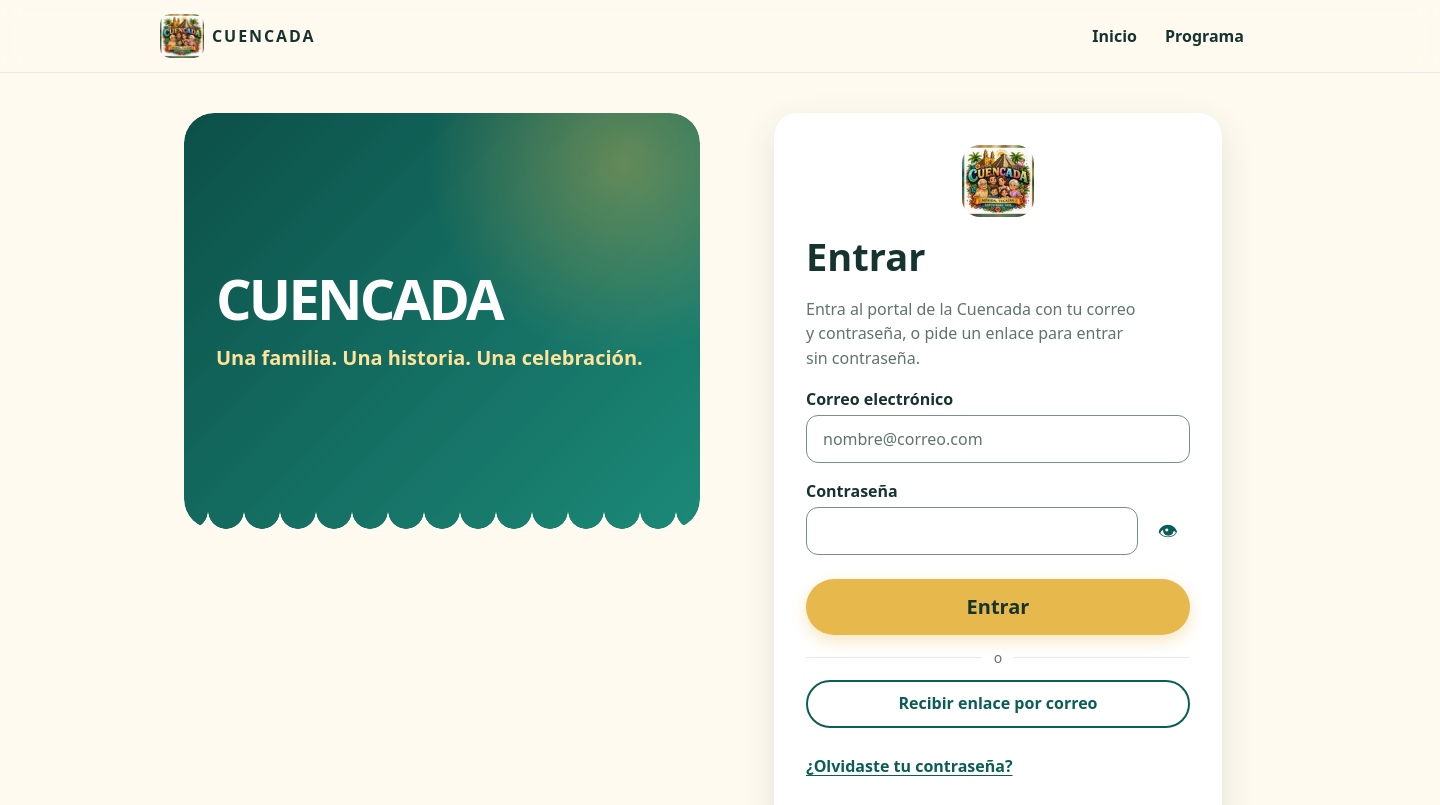
it: login code step › shows a generic message for a wrong code and starts over when the challenge is gone
Type "prima@example.com" into the field labelled "Correo electrónico" at coordinates (998, 439), box [806,415,1190,463]
Type "una frase muy larga" into the password field labelled "Contraseña" at coordinates (972, 531), box [806,507,1138,555]
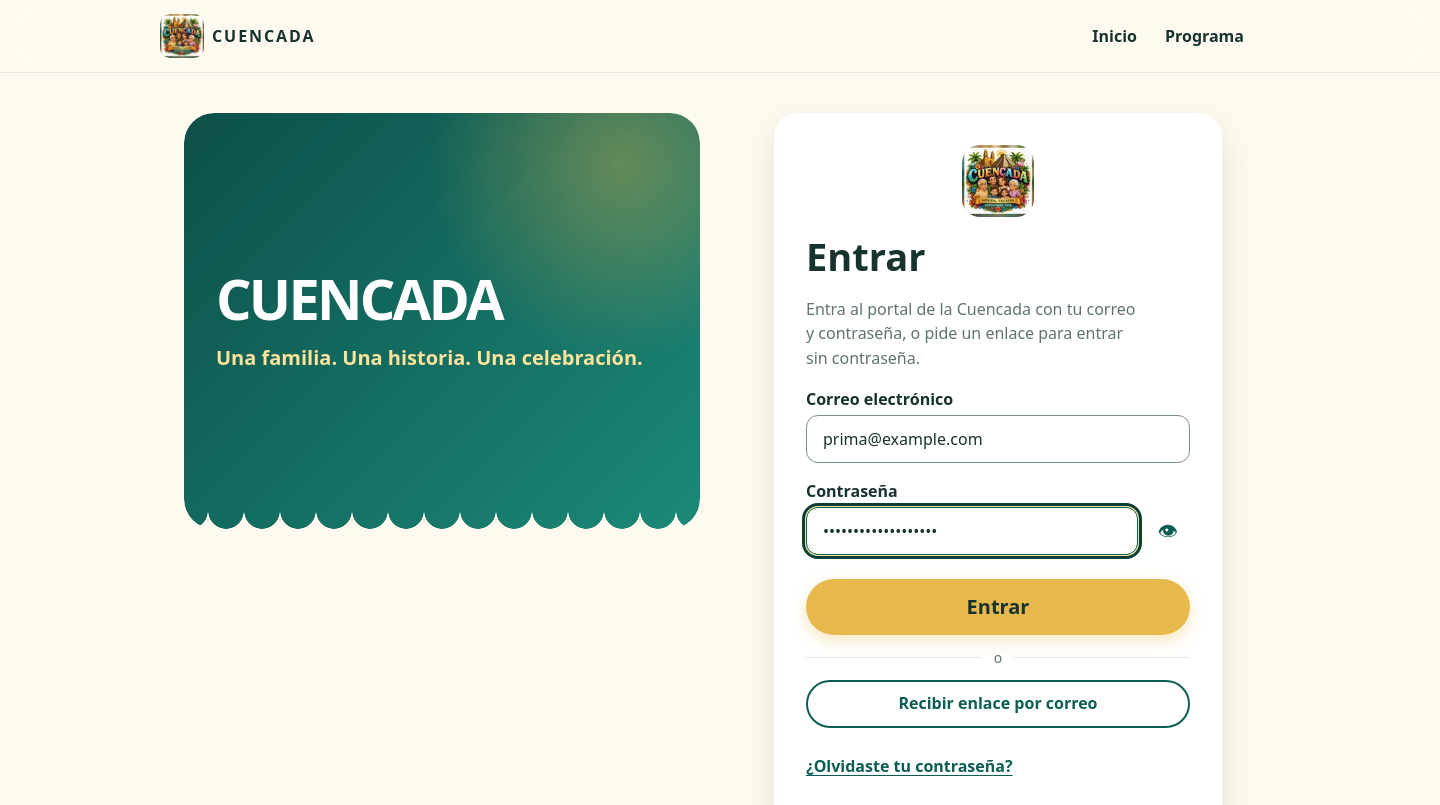
Click the button "Entrar" at coordinates (998, 607), box [806,579,1190,635]
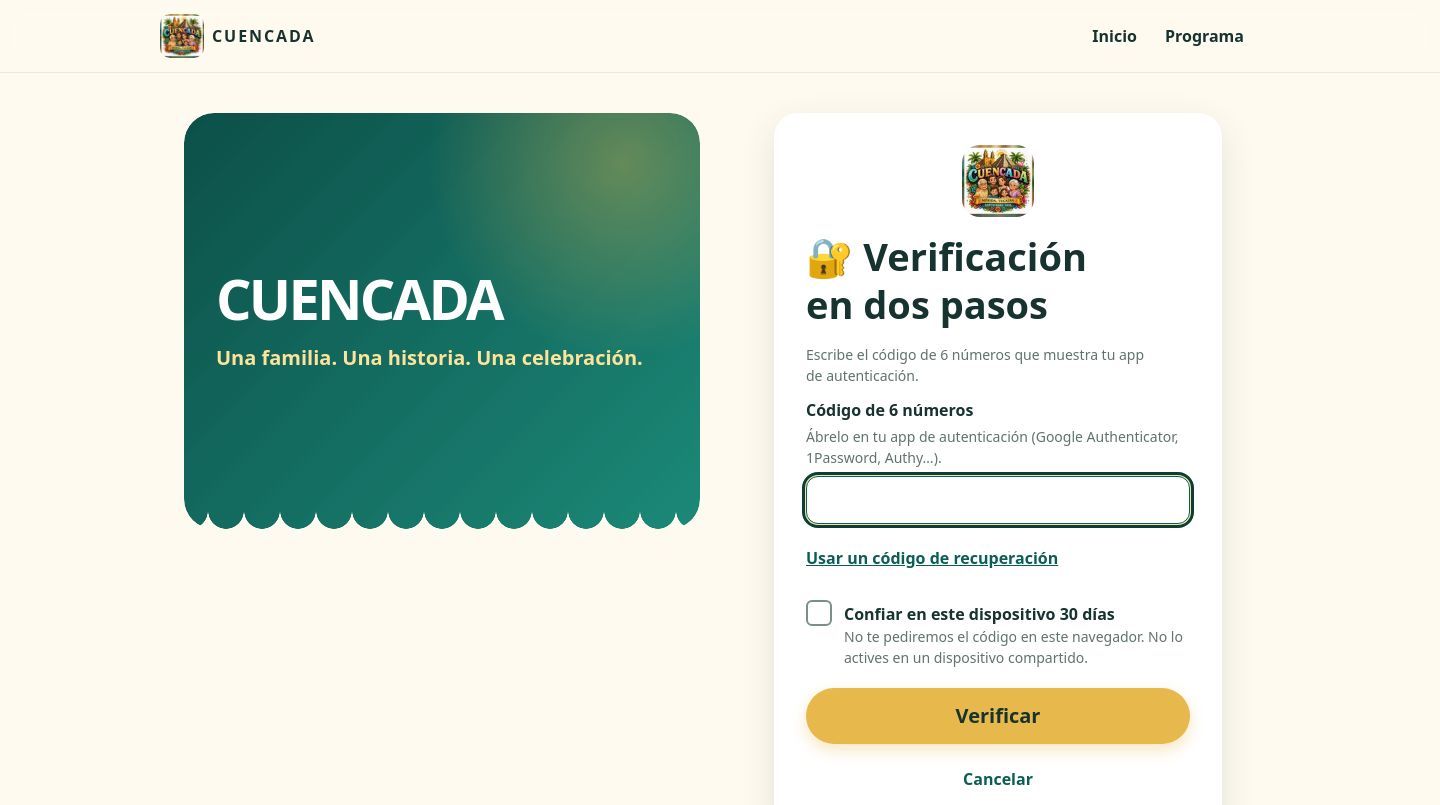
Type "000000" into the field labelled "Código de 6 números" at coordinates (998, 500), box [806,476,1190,524]
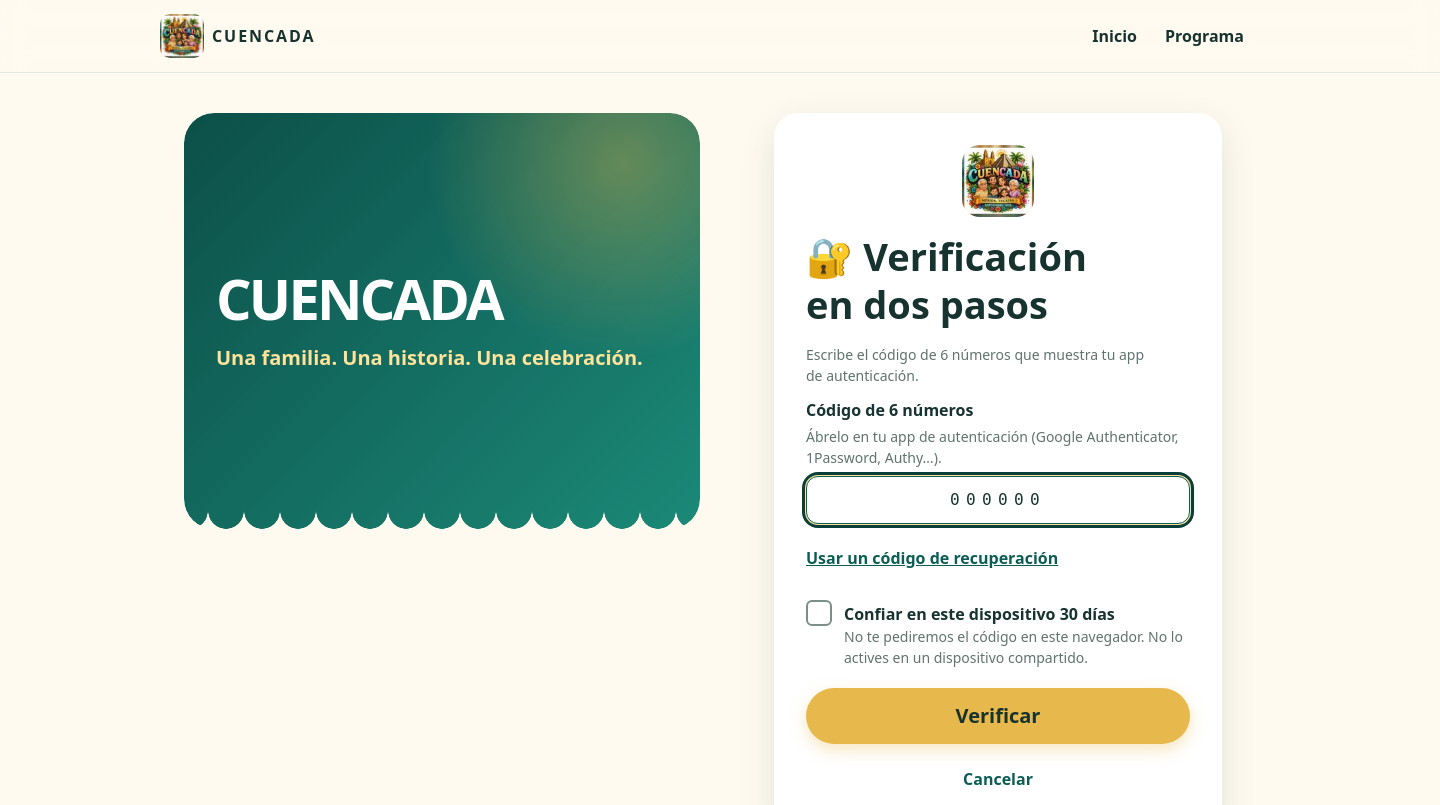
Click the button "Verificar" at coordinates (998, 716), box [806,688,1190,744]
(page scrolled)
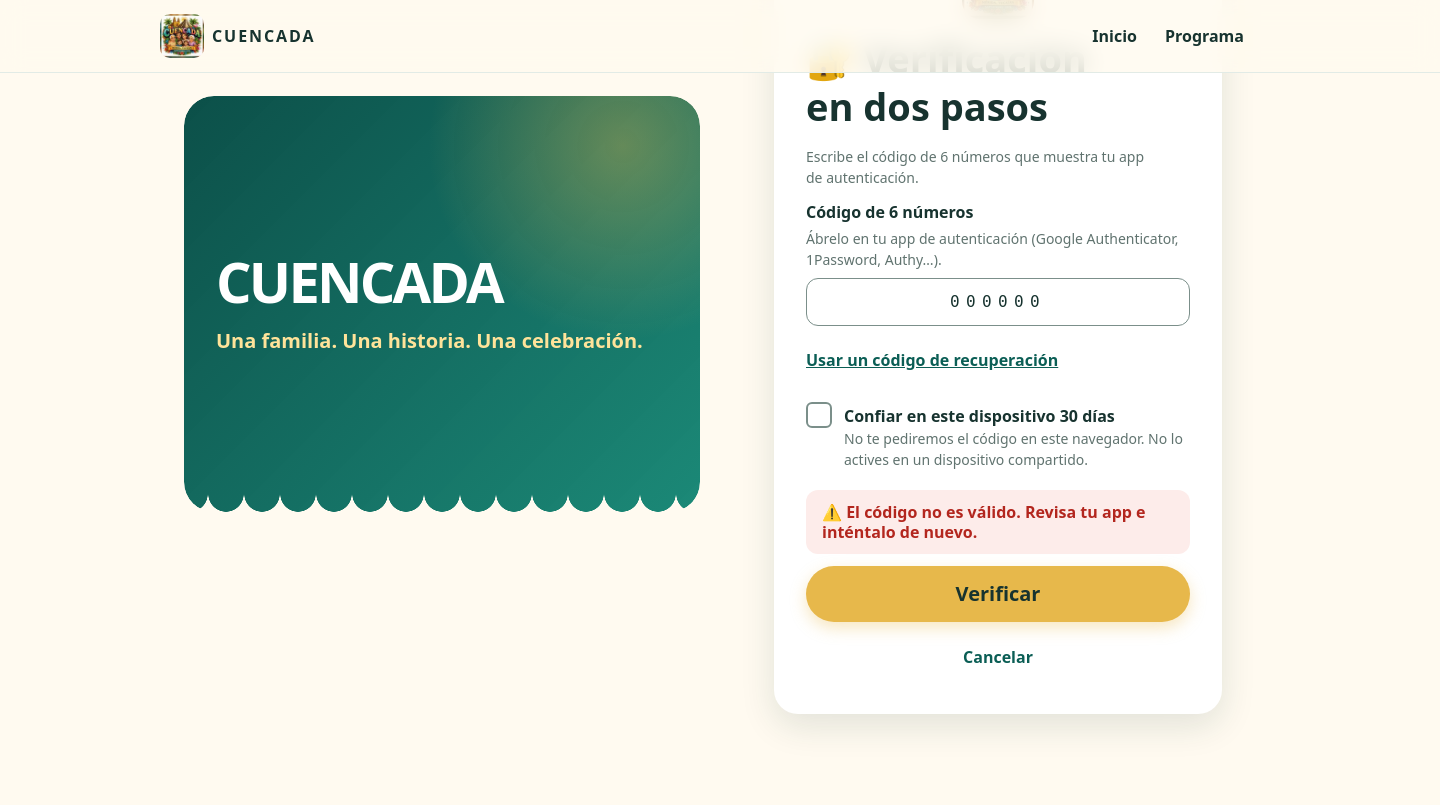
Now the text "El código no es válido. Revisa tu app e inténtalo de nuevo." is shown, box [822,501,1146,543]
Click the button "Verificar" at coordinates (998, 594), box [806,566,1190,622]
(page scrolled)
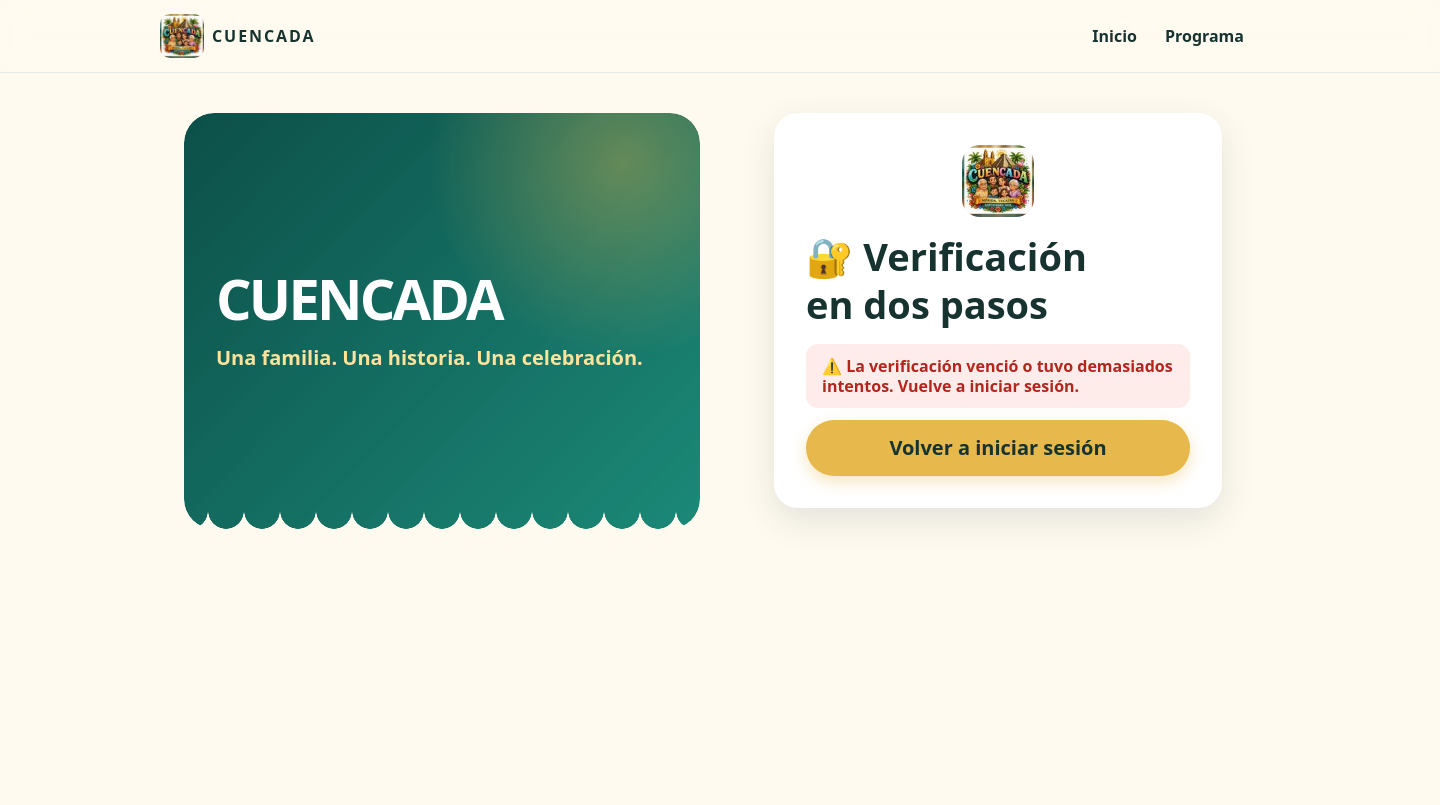
Click the button "Volver a iniciar sesión" at coordinates (998, 448), box [806,420,1190,476]
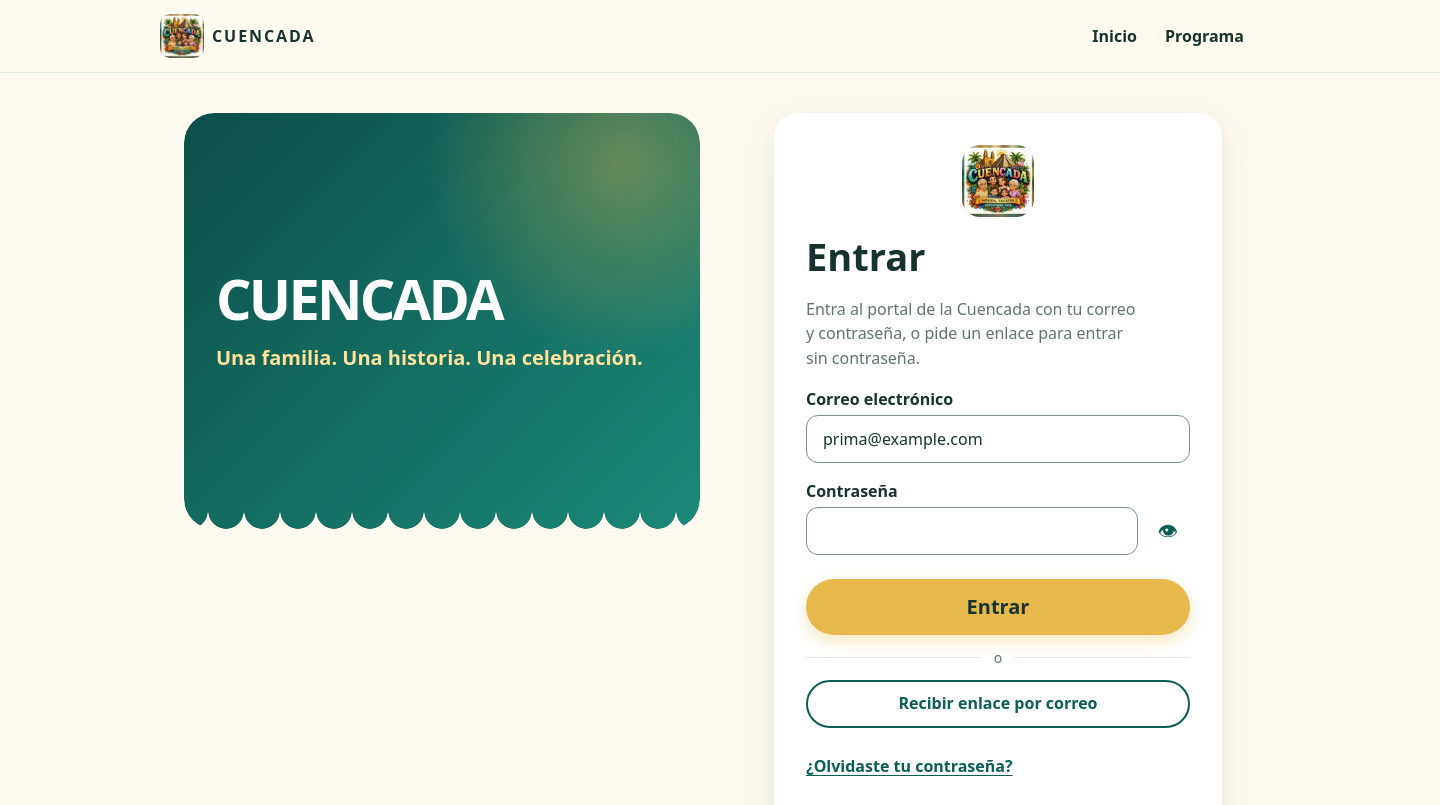
Now the field labelled "Correo electrónico" is shown, box [806,415,1190,463]
